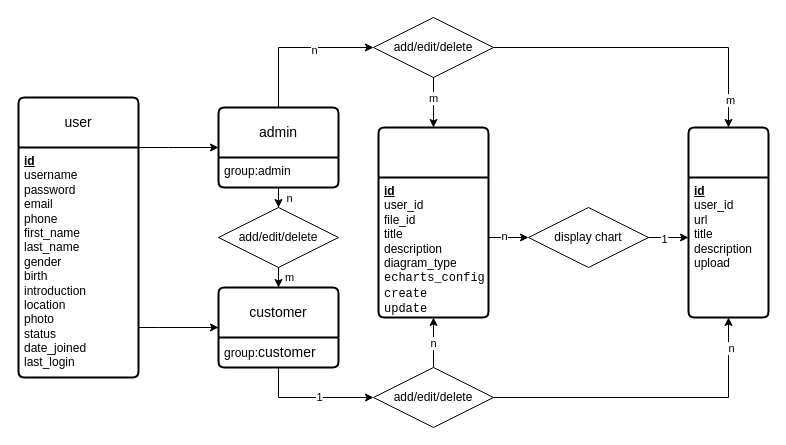
Image size: 786x445. Some labels were removed from this diagram. The box of each missing label's shape, as (x1, y1, x2, y2) in pixels:
file: (687, 126, 769, 318)
project: (377, 126, 489, 318)
